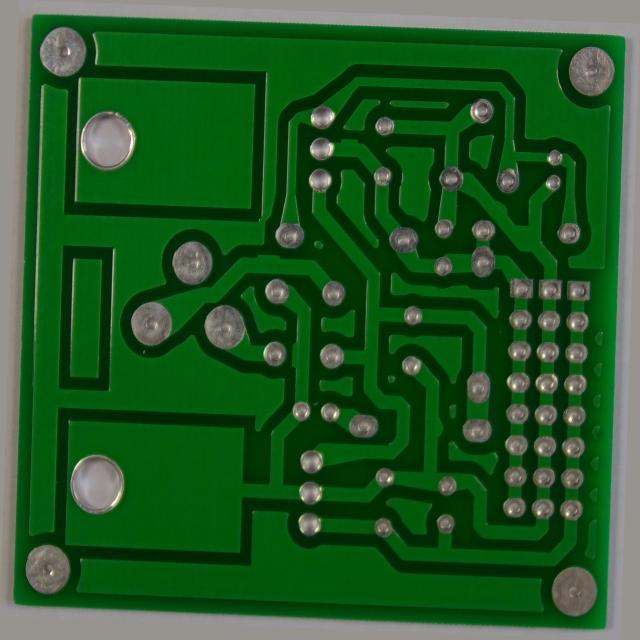spur: (286, 341, 310, 373), (491, 182, 515, 209), (249, 249, 283, 267), (433, 412, 453, 442), (330, 128, 360, 147)
